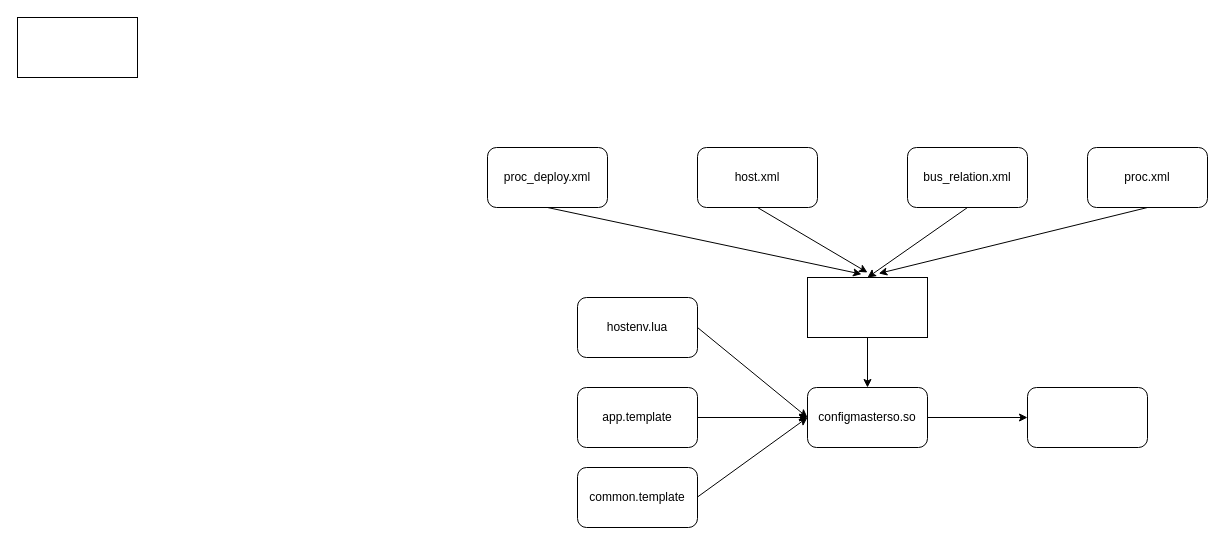
This 1225x545 diagram has some shape labels left out. Each missing label, with the centre of its shape:
"*.lua" belongs at (x=1087, y=417).
"TCM" belongs at (x=867, y=307).
